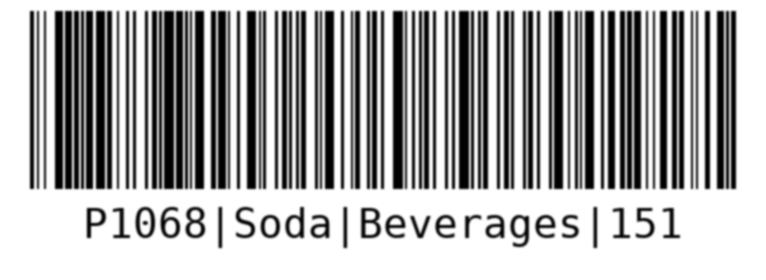milk: (22, 4, 741, 261)
